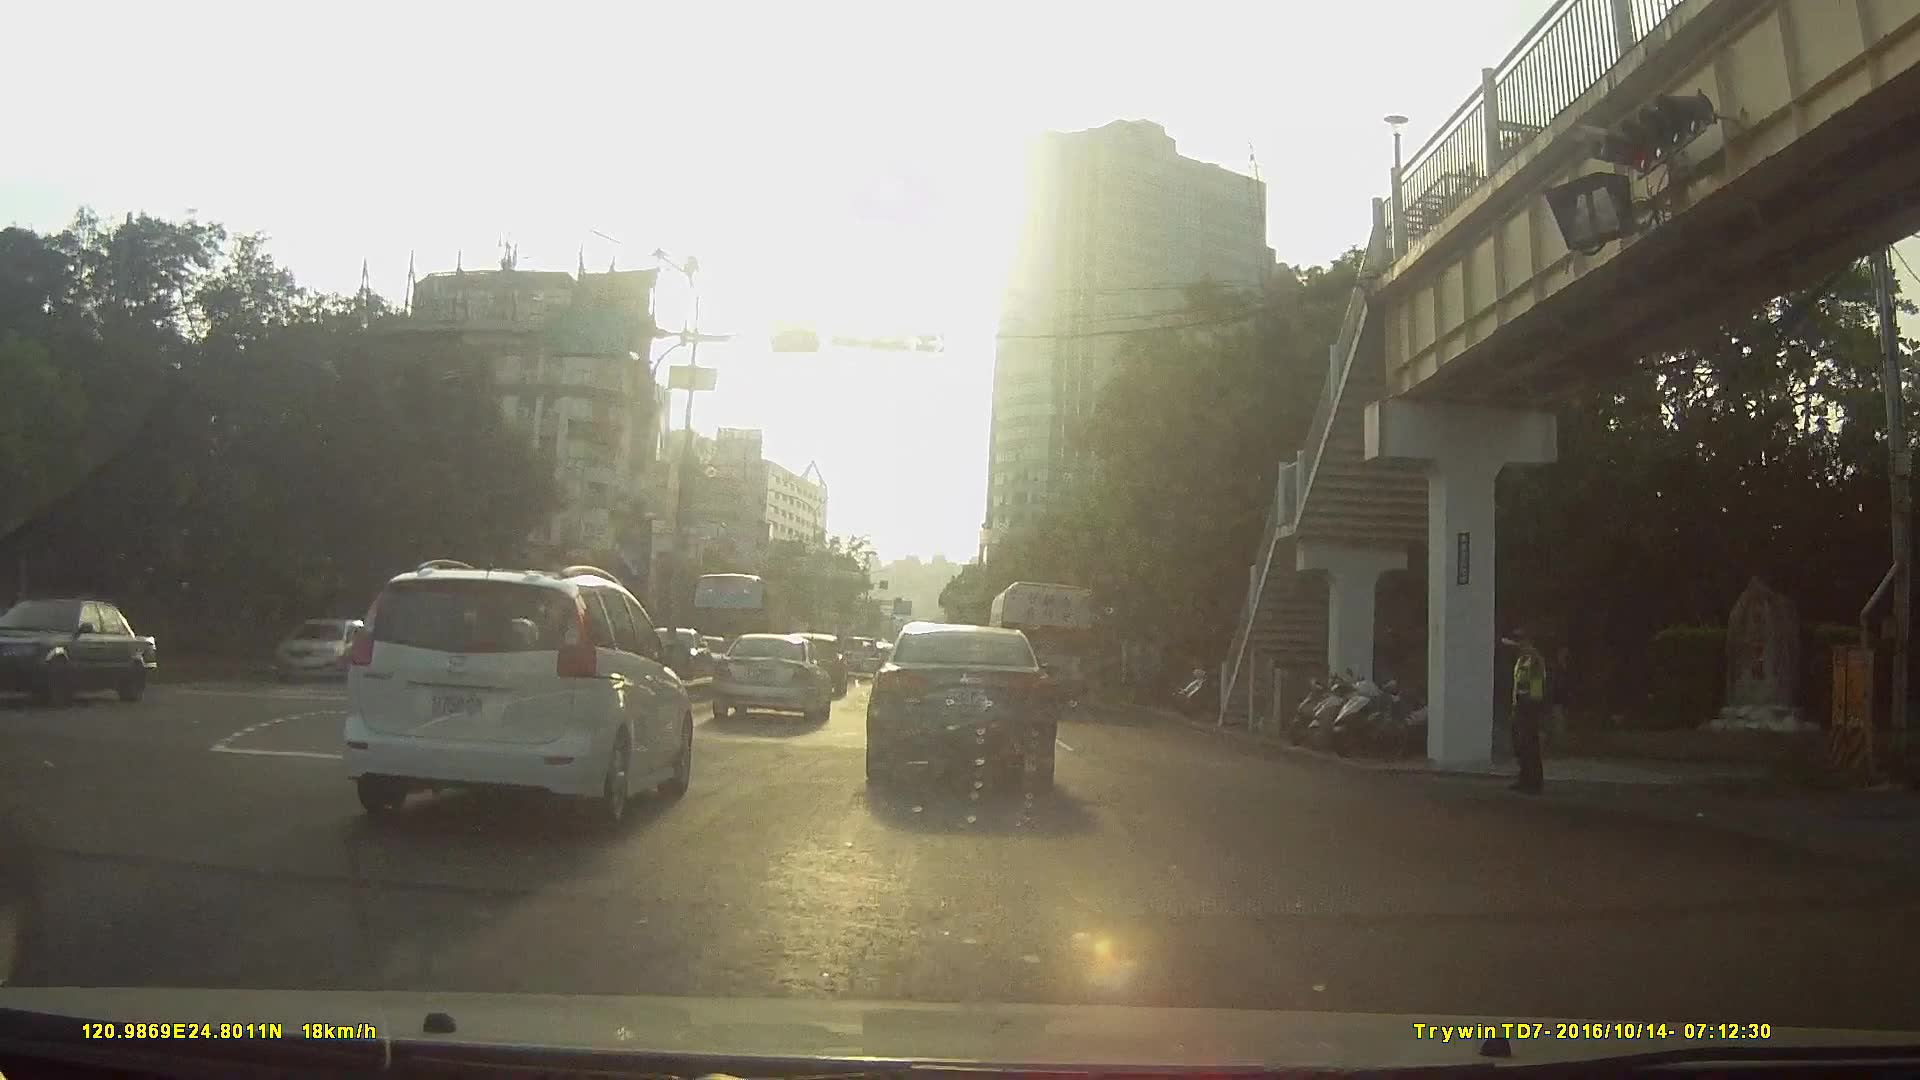pedestrian: (1501, 625, 1559, 792)
vehicle: (250, 556, 684, 868), (342, 554, 692, 824), (860, 614, 1053, 787), (1, 600, 171, 706), (983, 576, 1094, 708), (708, 626, 831, 721), (265, 609, 392, 692), (684, 566, 786, 667), (834, 633, 883, 681)
